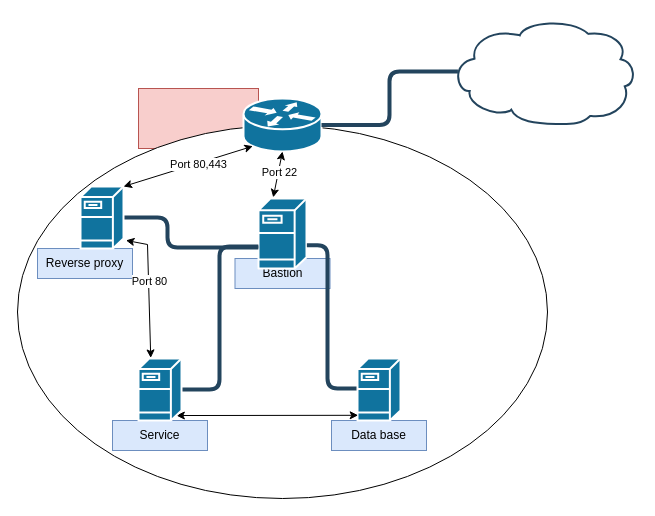
This 655x516 diagram has some shape labels left out. Each missing label, with the centre of its shape:
"Internet" goes at point 543,71.
"Routeur pfSense" goes at point 198,118.
